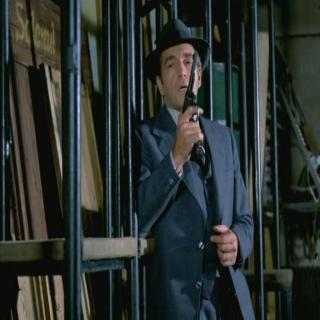gun: (178, 54, 205, 166)
